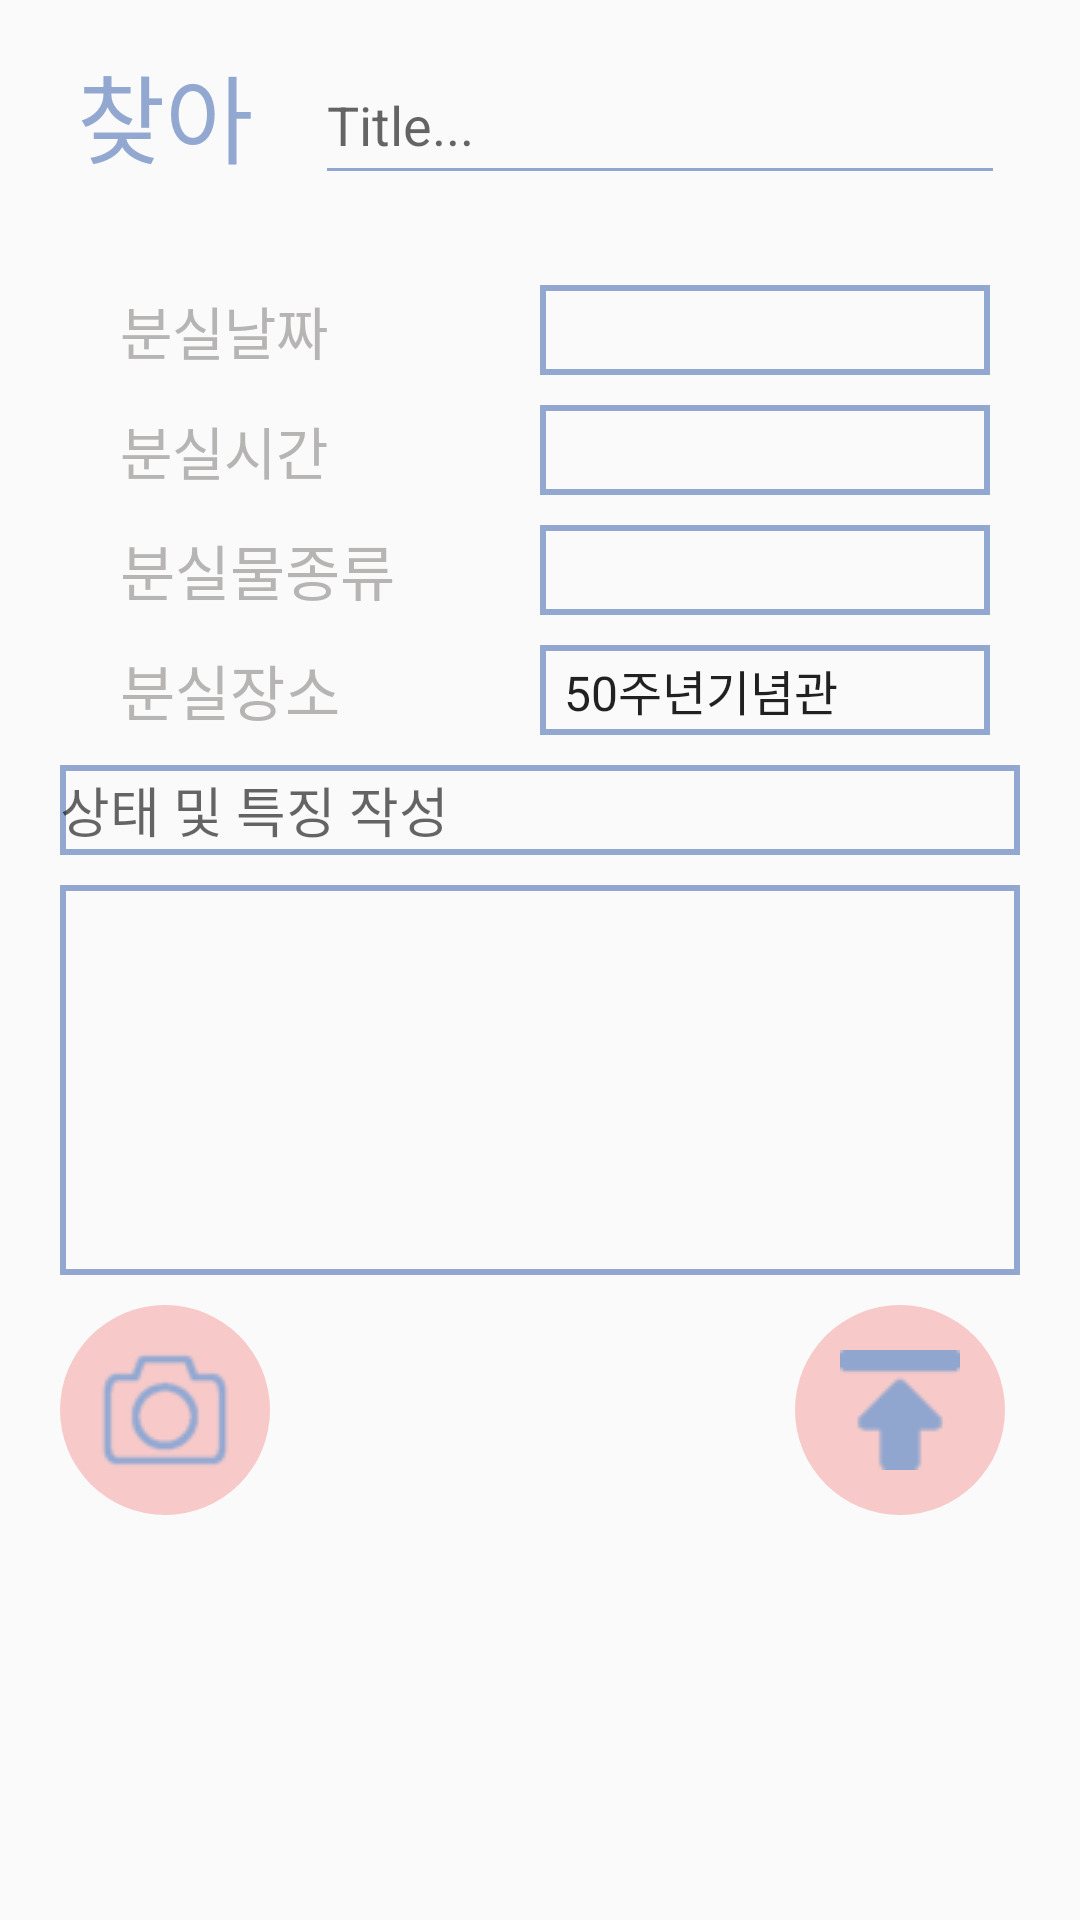

Named icons in this screenshot (1080×1920) and their bounding boxes, (x1, y1, x2, y2):
camera: (60, 1305, 270, 1515)
